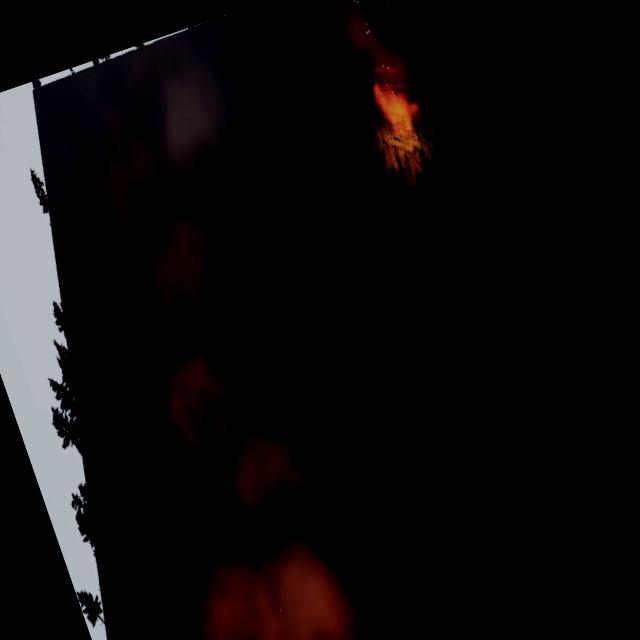fire: (368, 70, 424, 140)
smoke: (13, 14, 434, 640), (316, 0, 412, 92)
